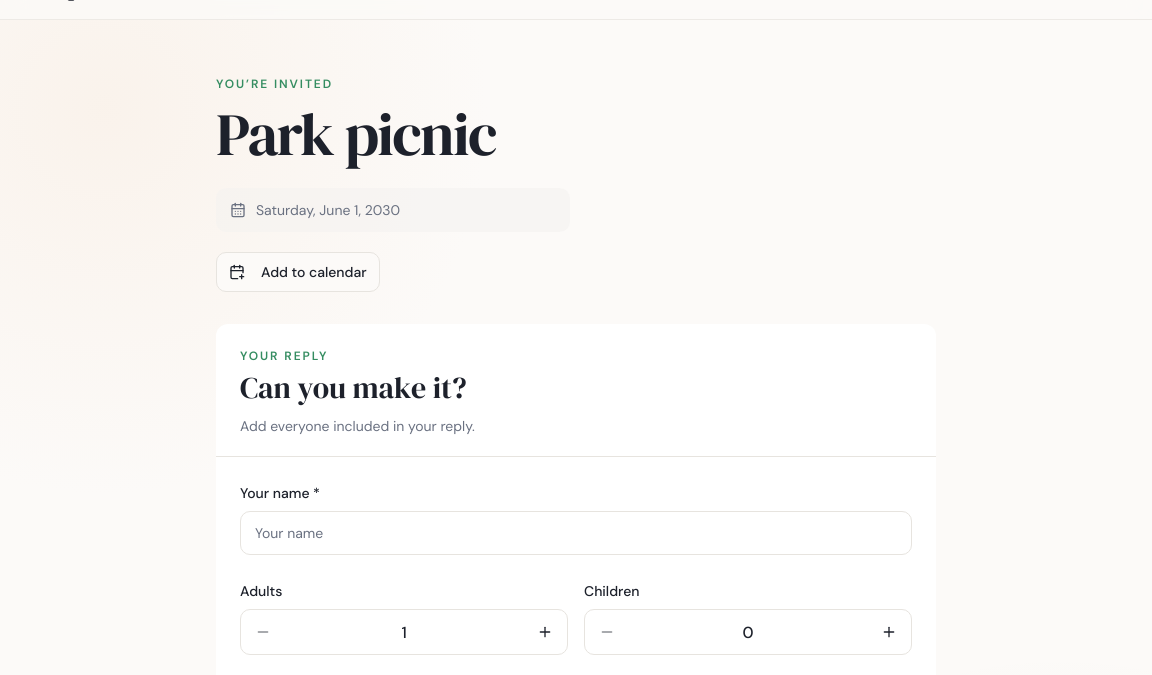
Test: EventPage › sends the guest's address with a bot-check token and confirms where it went
Type "Ada" into the field labelled "Your name *" at (576, 533), box [240, 511, 912, 555]
(page scrolled)
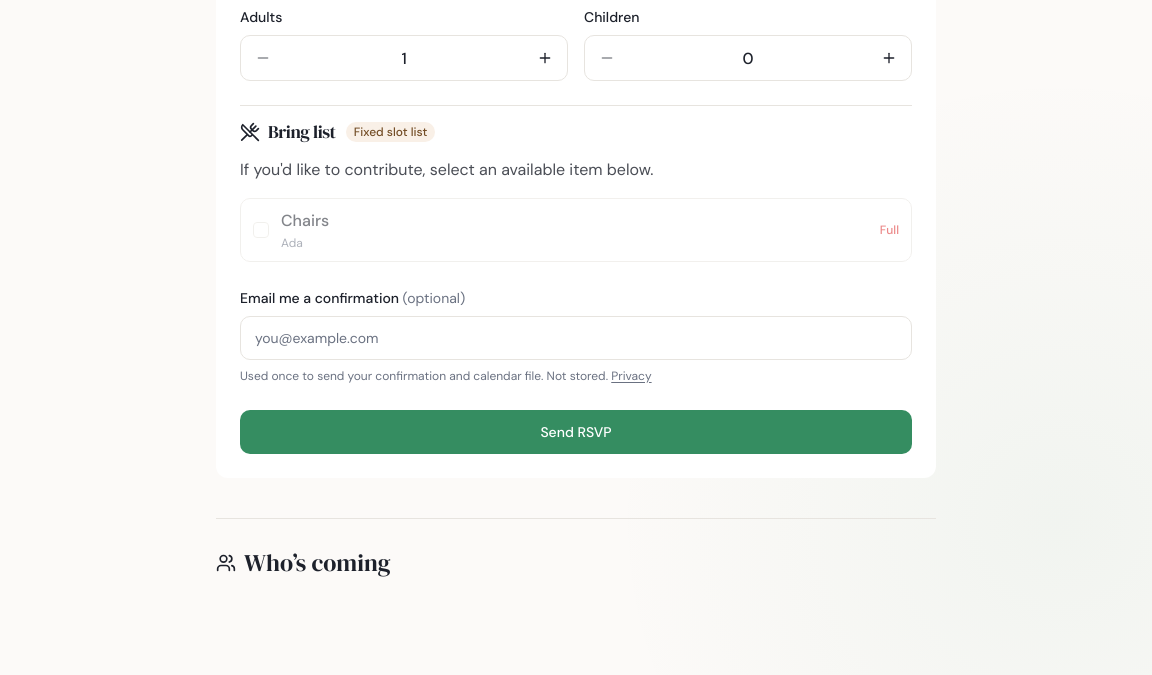
Type "ada@example.com" into the field labelled "Email me a confirmation (optional)" at (576, 338), box [240, 316, 912, 360]
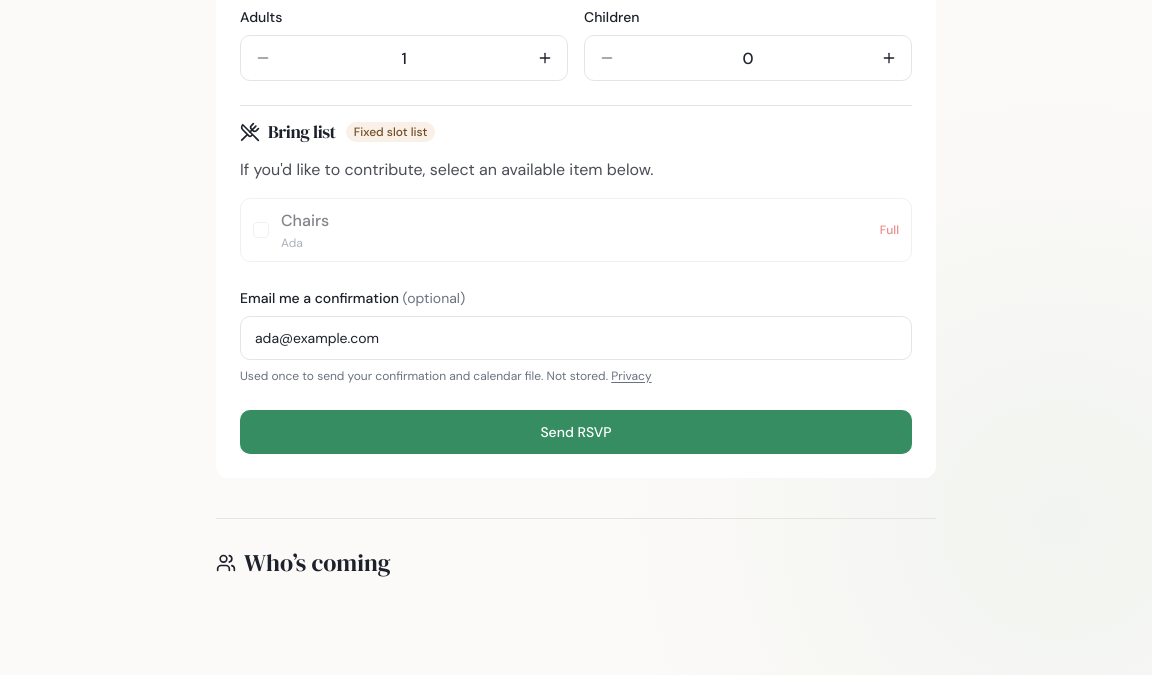
Click the button "Send RSVP" at (576, 432), box [240, 410, 912, 454]
(page scrolled)
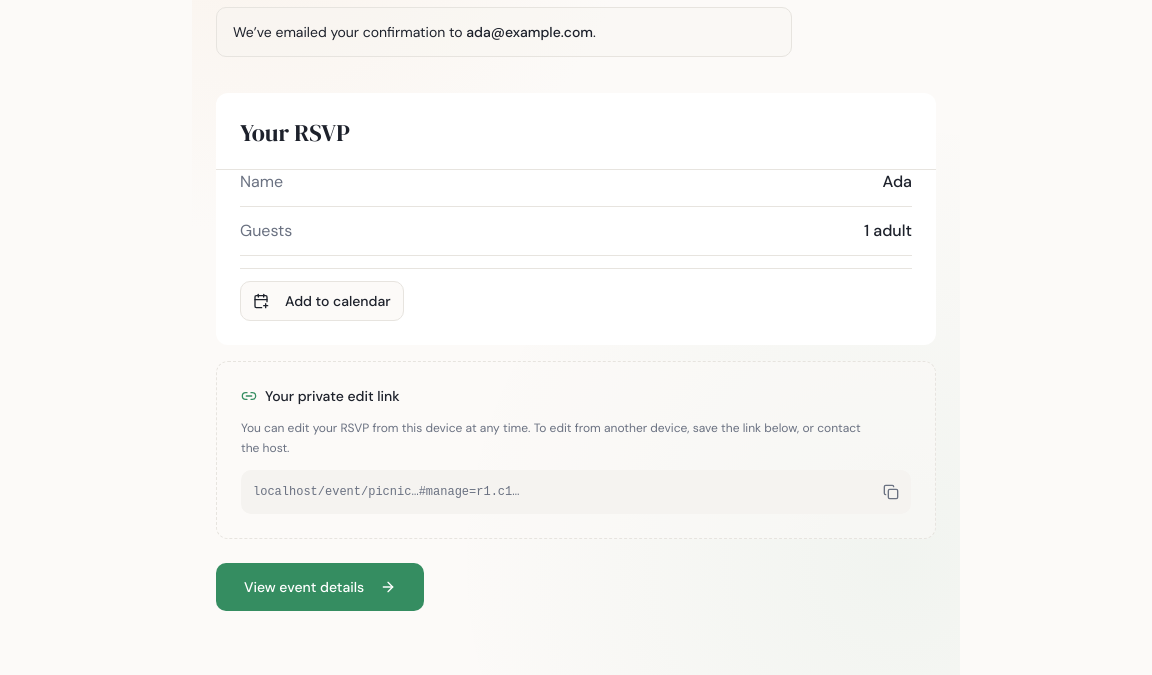
Expected: the message reads "We’ve emailed your confirmation to ada@example.com.", [216, 7, 792, 57]
